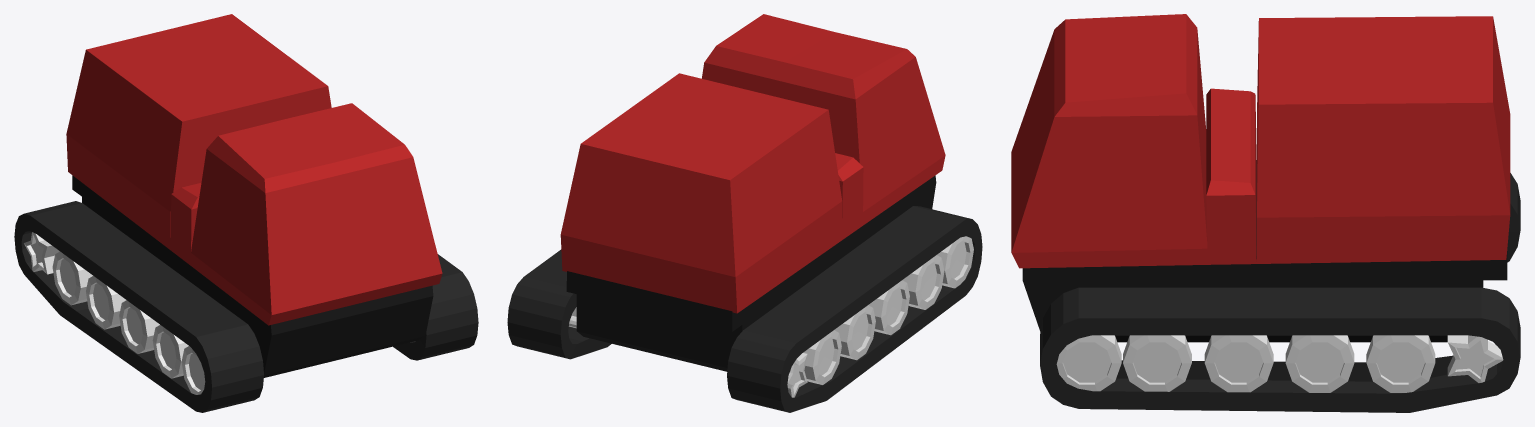
The model's file is GGJ_TractorMDL.fbx.
The picture shows the model from 3 angles, left to right: view 1: azimuth 30°, elevation 25°; view 2: azimuth 150°, elevation 25°; view 3: azimuth 270°, elevation 25°; orthographic projection. The views are drawn at different scales.
Visible parts, largest first — view 1: Cube.001; view 2: Cube.001; view 3: Cube.001.
Part boxes in pixels (x1,y1,x2,y2): Cube.001: (14, 14, 478, 412); Cube.001: (507, 14, 982, 412); Cube.001: (1011, 14, 1520, 412).
Size of the model in its own units: 599 by 496 by 815.
Materials: 4 (1 with a texture image).
